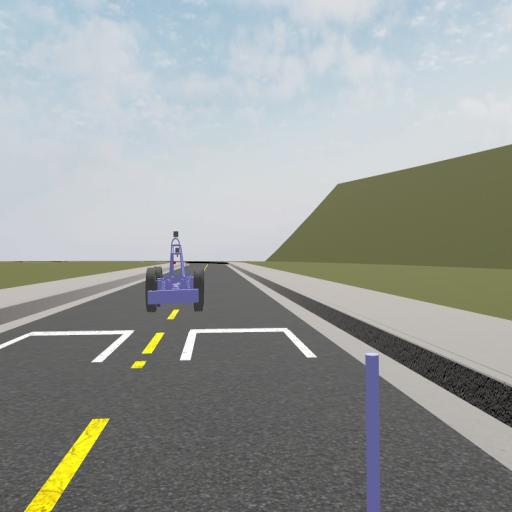ERP-42: (146, 229, 206, 311)
